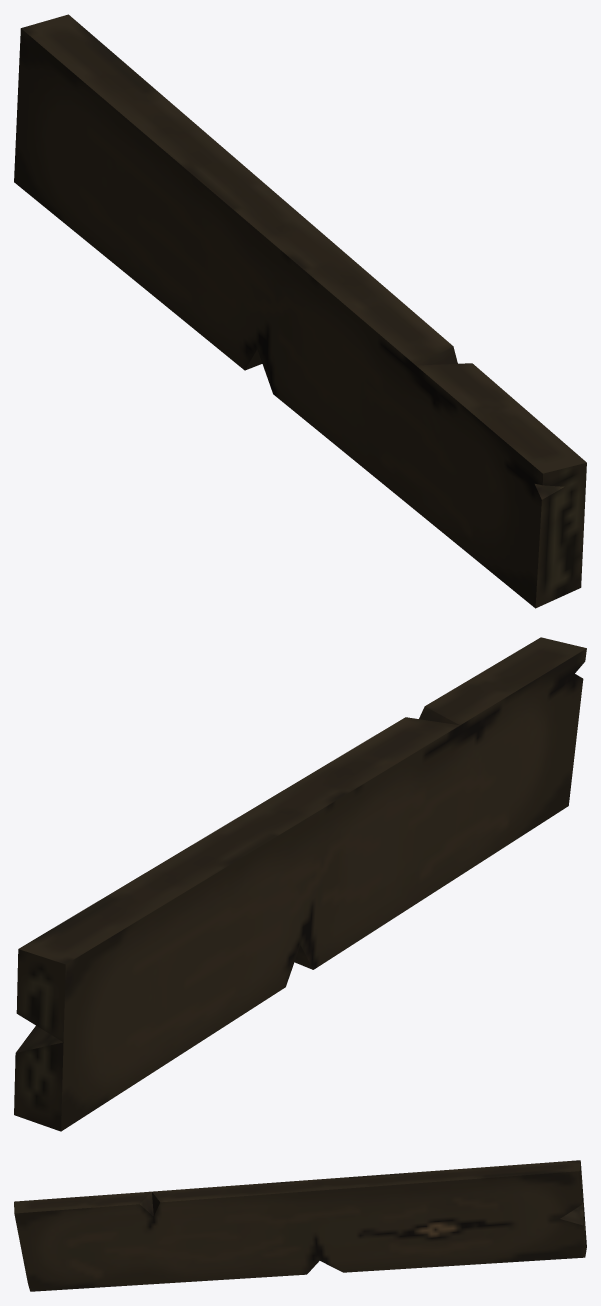
File: Plank.fbx
The picture shows the model from 3 angles, top to bottom: view 1: azimuth 30°, elevation 25°; view 2: azimuth 150°, elevation 25°; view 3: azimuth 270°, elevation 25°; orthographic projection. The views are drawn at different scales.
Parts seen in each view (by area): view 1: Wood; view 2: Wood; view 3: Wood.
Boxes of the visible parts, <box> form: Wood: <box>14,14,586,608</box>; Wood: <box>14,637,586,1131</box>; Wood: <box>14,1160,586,1291</box>.
Size of the model in its own units: 0.1732 by 0.5841 by 2.51.
